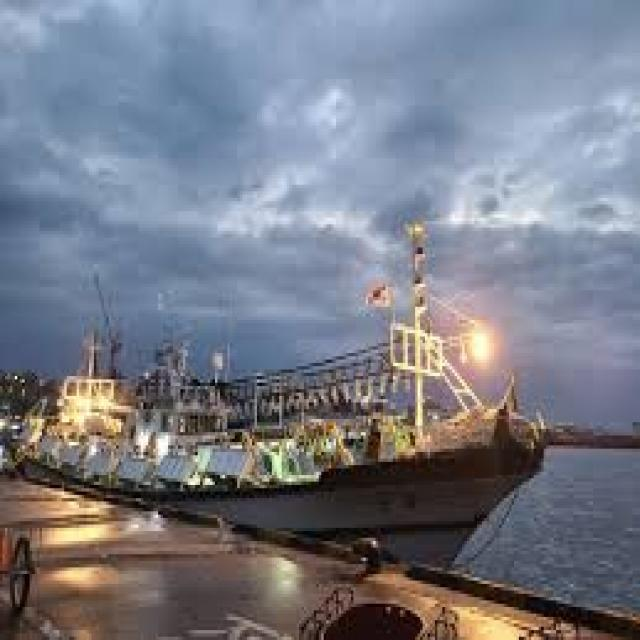Ship: (1, 202, 559, 601)
